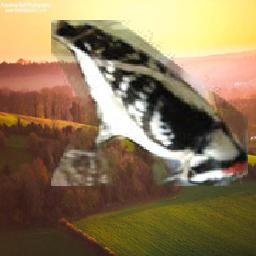Woodpecker: (52, 20, 249, 186)
